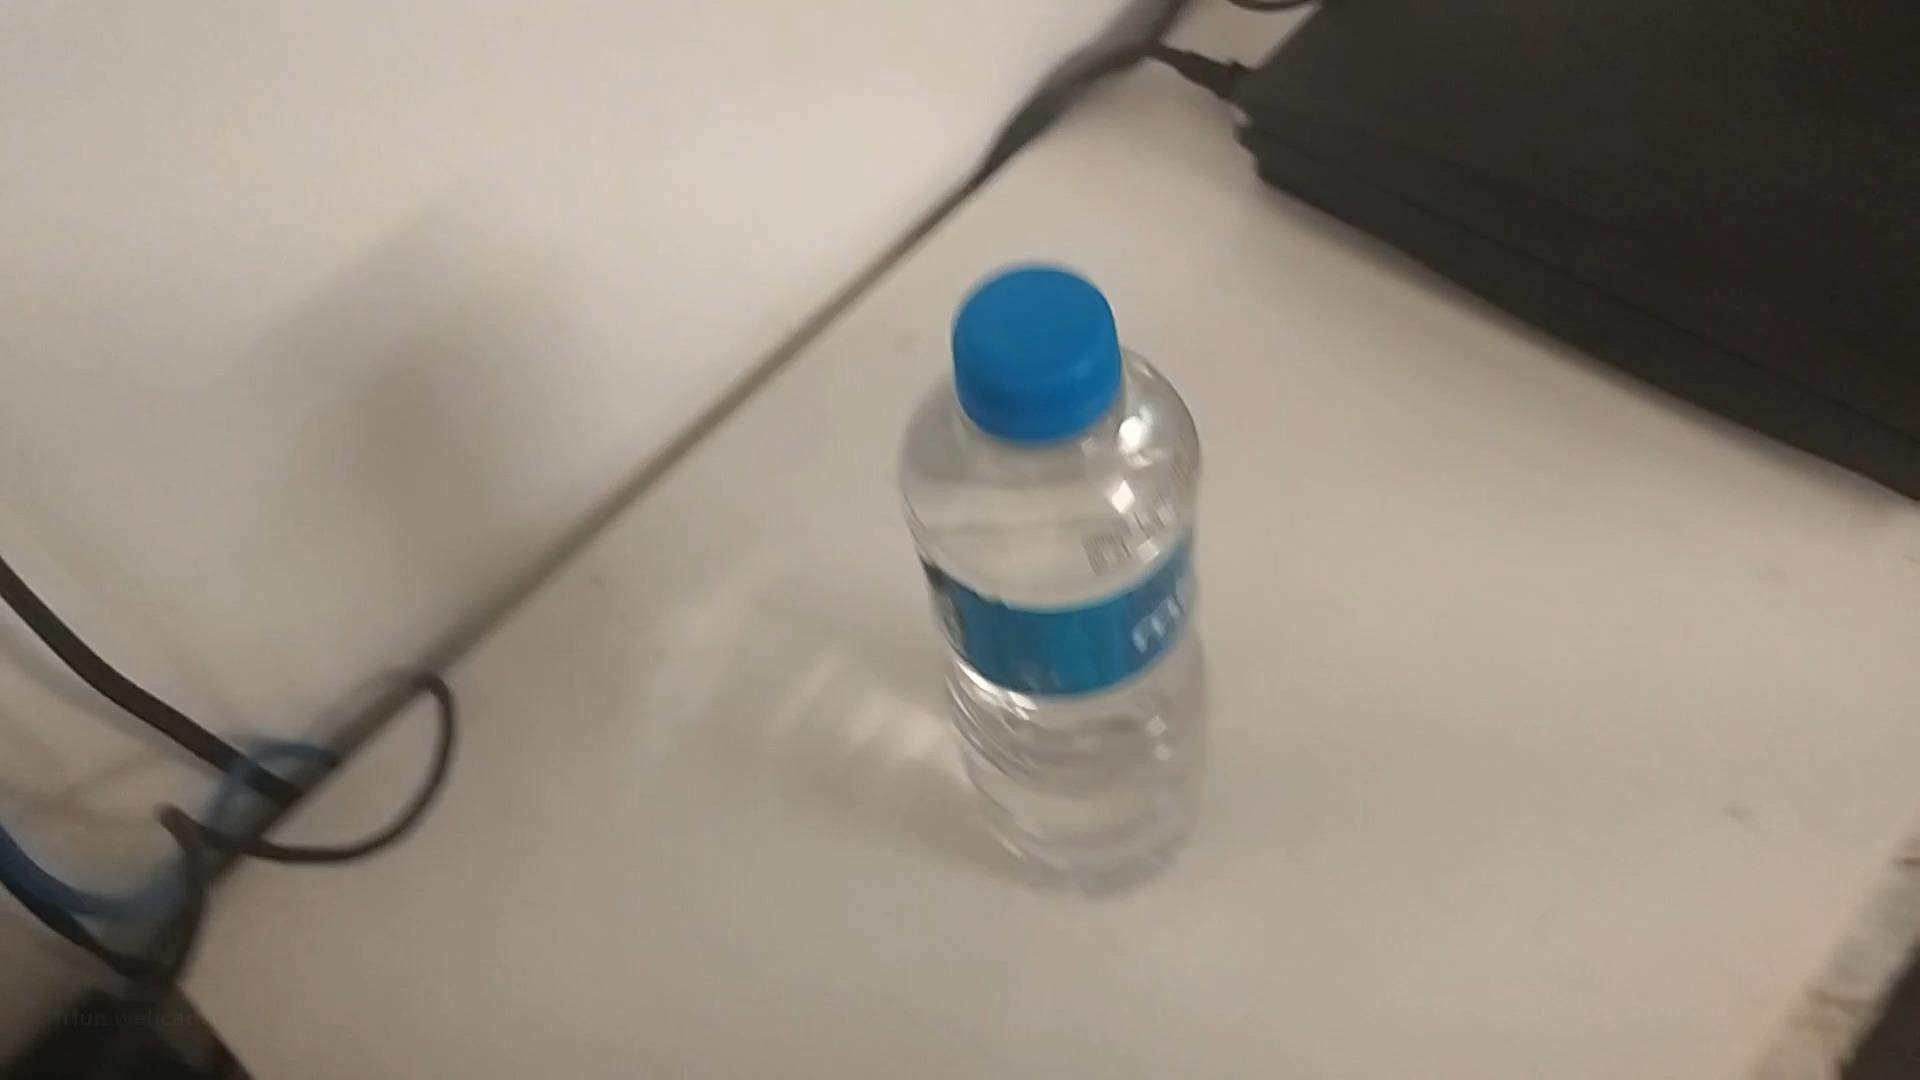agua: (902, 257, 1204, 887)
